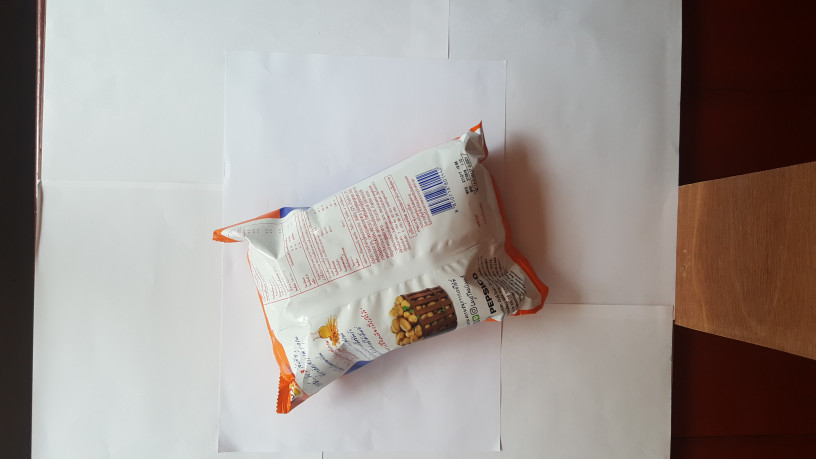lays-bbq: (195, 113, 552, 419)
